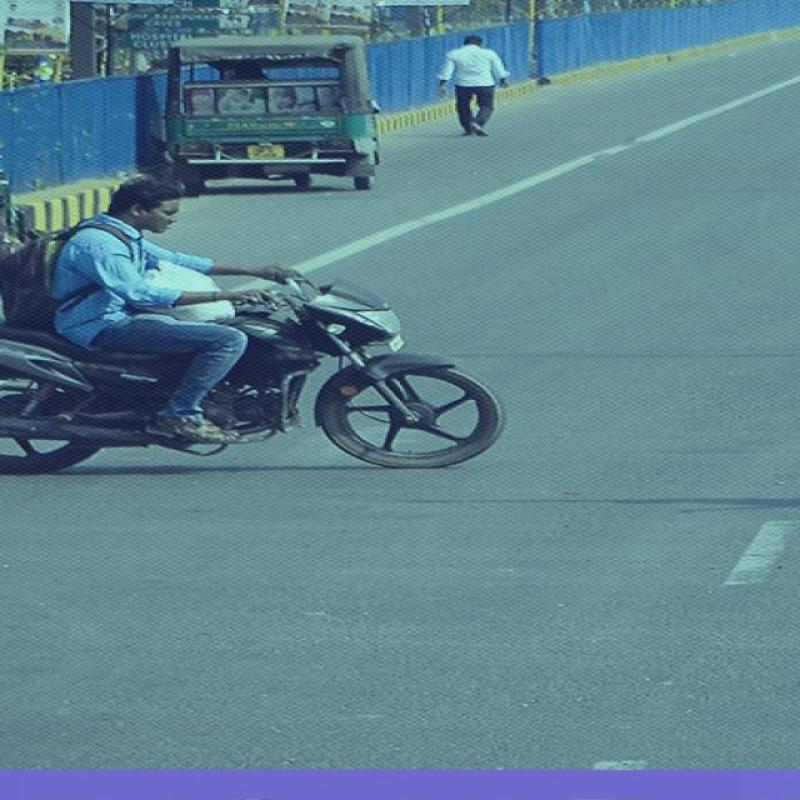nohelmet: (76, 171, 198, 237)
